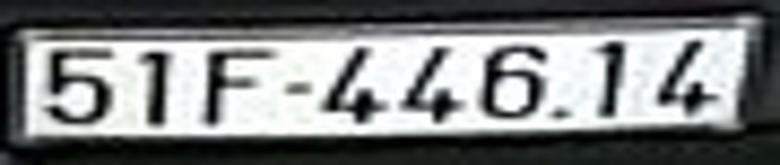-: (286, 80, 312, 95)
.: (551, 106, 570, 119)
1: (592, 41, 625, 118), (139, 51, 166, 123)
4: (321, 47, 386, 125), (401, 45, 466, 123), (658, 39, 717, 117)
5: (49, 48, 112, 125)
6: (484, 42, 540, 118)
F: (209, 50, 272, 123)
